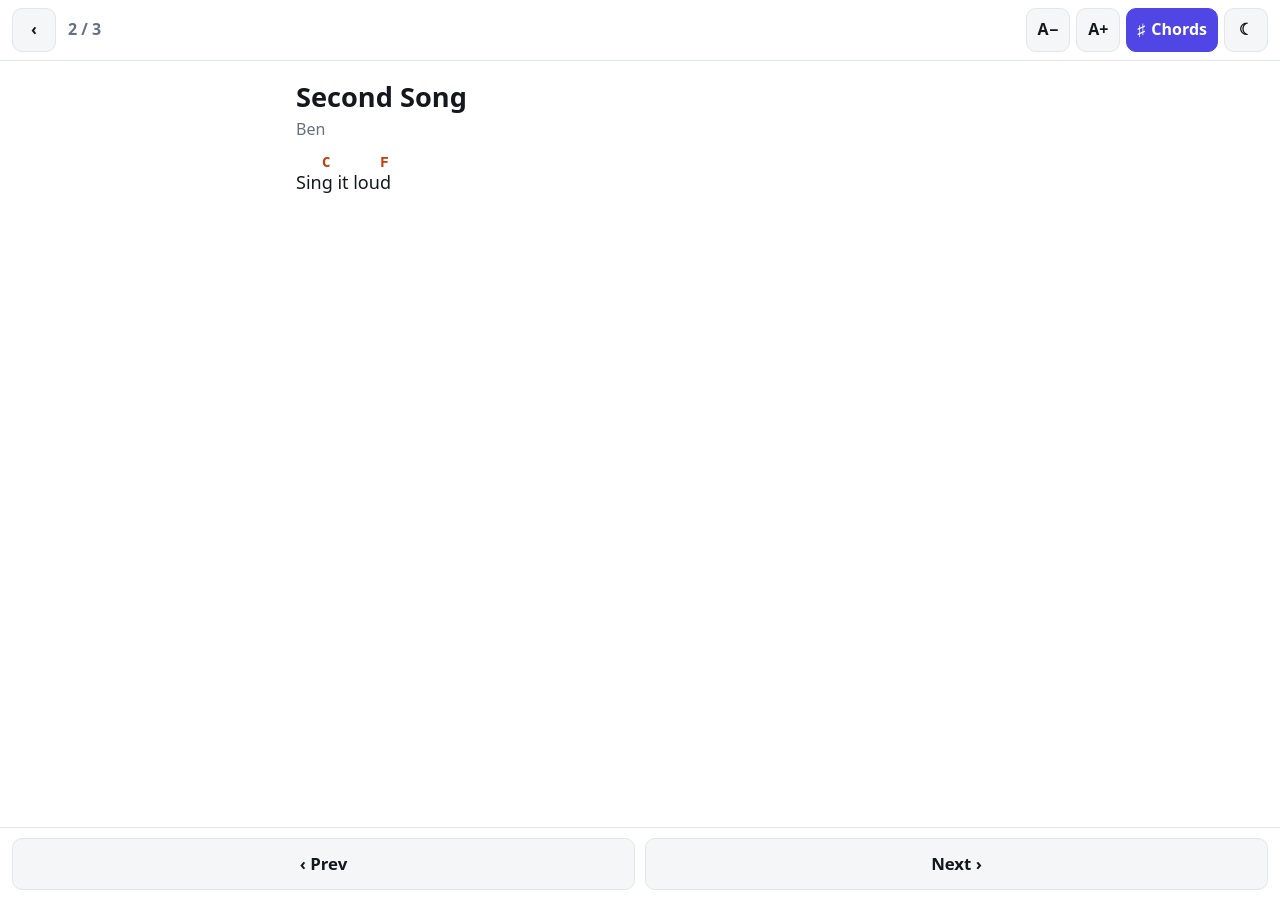
it: reader: swipe › swipe left = next song, swipe right = previous song
Press the mouse on the heading "Second Song" at [381, 96], box [296,78,467,115]
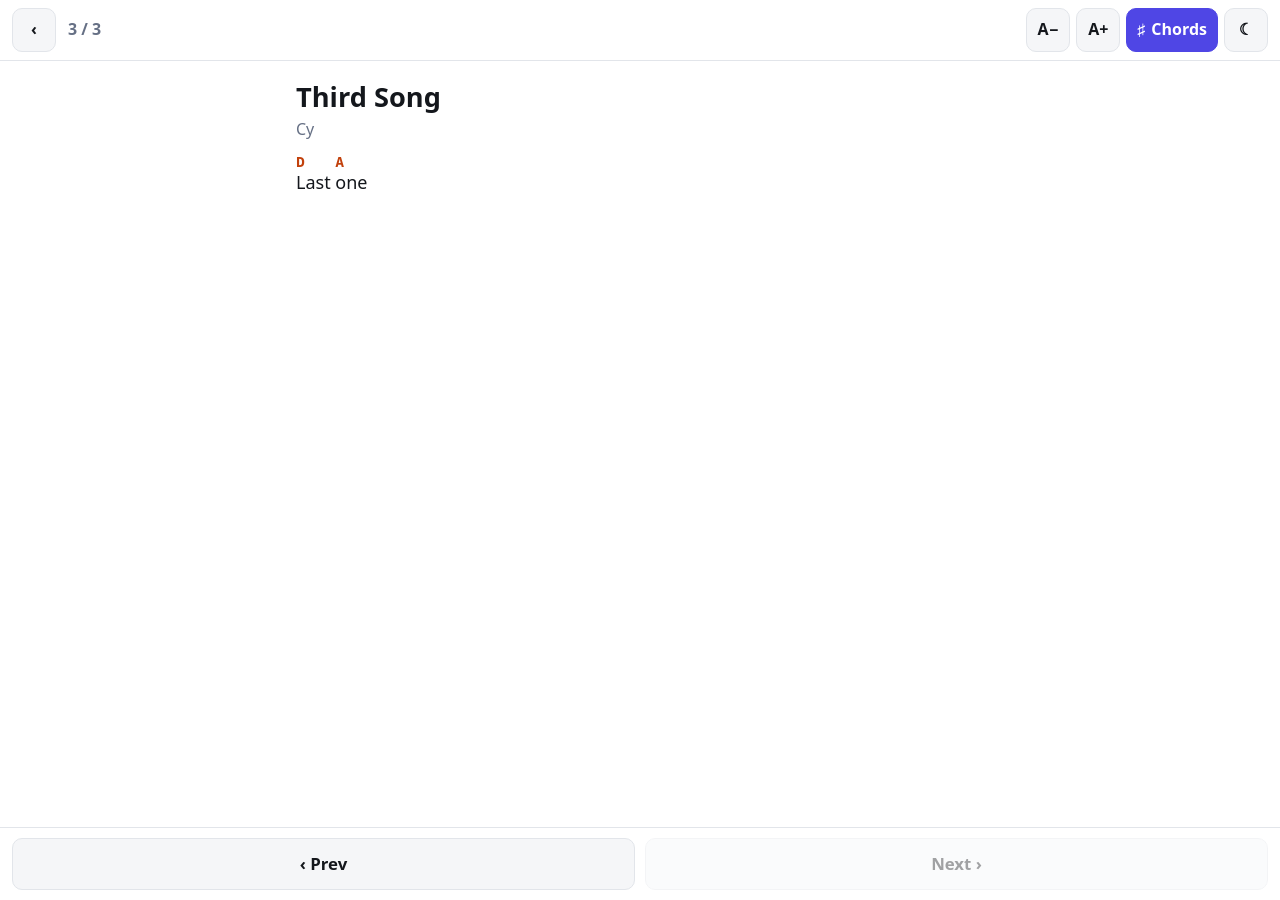
Expected: the heading reads "Third Song"
Press the mouse on the heading "Third Song" at [368, 96], box [296,78,441,115]
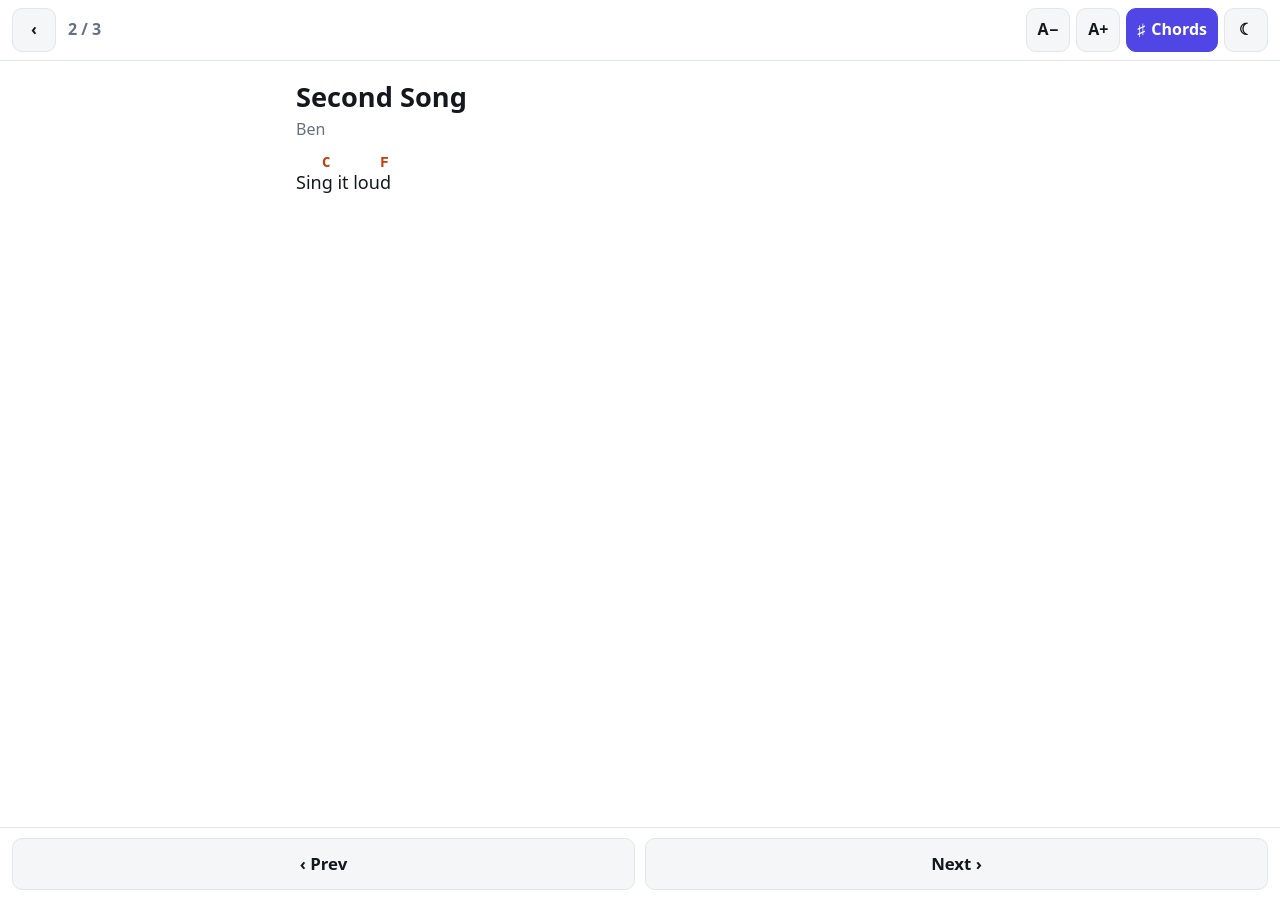
Expected: the heading reads "Second Song", [296,78,467,115]
